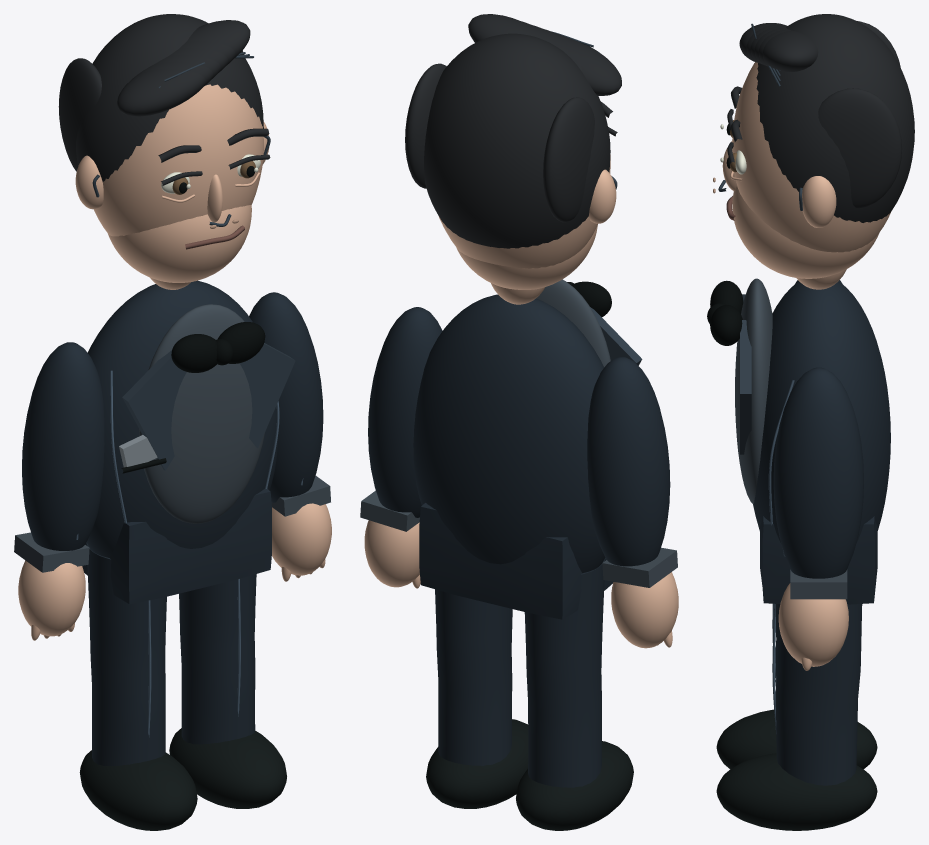
Rendered from Peter Chambers.glb.
3 renders of one model, left to right at view 1: azimuth 30°, elevation 25°; view 2: azimuth 150°, elevation 25°; view 3: azimuth 270°, elevation 25°, orthographic.
Visible parts, largest first — view 1: Torso, Head, LeftLeg, LeftArm, RightLeg, RightArm; view 2: Torso, Head, LeftArm, LeftLeg, RightLeg, RightArm; view 3: Head, Torso, RightArm, RightLeg, LeftLeg, Tailored side seam.
Part boxes in pixels (<box>): Torso: <box>82,280,295,604</box>; Head: <box>58,14,270,289</box>; LeftLeg: <box>79,542,197,830</box>; LeftArm: <box>14,342,104,636</box>; RightLeg: <box>169,574,286,808</box>; RightArm: <box>249,292,331,575</box>; Torso: <box>413,279,642,619</box>; Head: <box>405,14,621,304</box>; LeftArm: <box>587,357,678,648</box>; LeftLeg: <box>516,558,633,830</box>; RightLeg: <box>426,589,528,808</box>; RightArm: <box>360,307,442,587</box>; Head: <box>718,14,914,289</box>; Torso: <box>707,278,890,604</box>; RightArm: <box>773,367,863,666</box>; RightLeg: <box>716,604,877,830</box>; LeftLeg: <box>716,641,877,769</box>; Tailored side seam: <box>768,380,794,525</box>.
Bounding box in the file's own units: 1.05 × 2.57 × 0.6194.
